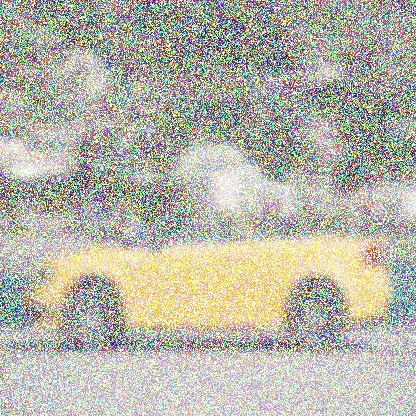Vehicle: (20, 204, 394, 349)
